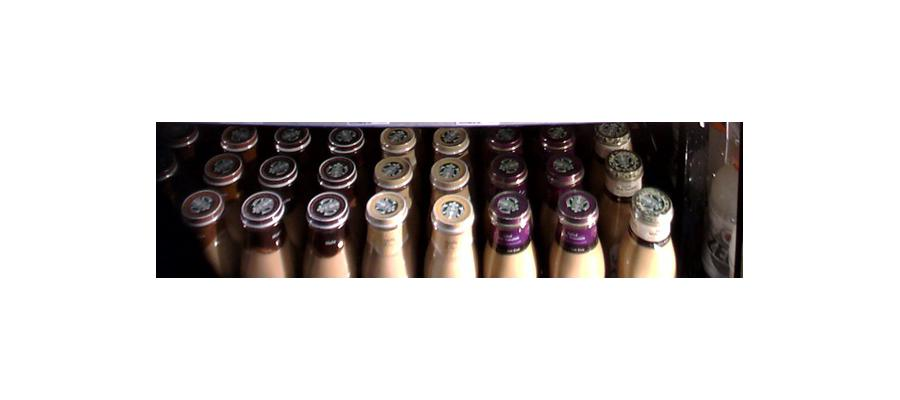bottle: (421, 156, 478, 277), (702, 124, 745, 273), (615, 181, 678, 280), (483, 169, 536, 278), (548, 180, 607, 277), (296, 185, 355, 278), (359, 184, 411, 279), (240, 191, 292, 276)
